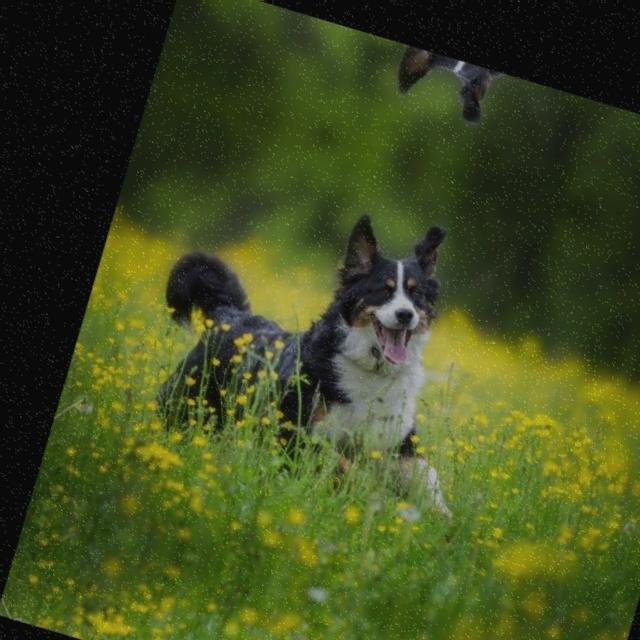dog: (124, 142, 532, 524), (230, 0, 573, 159)
